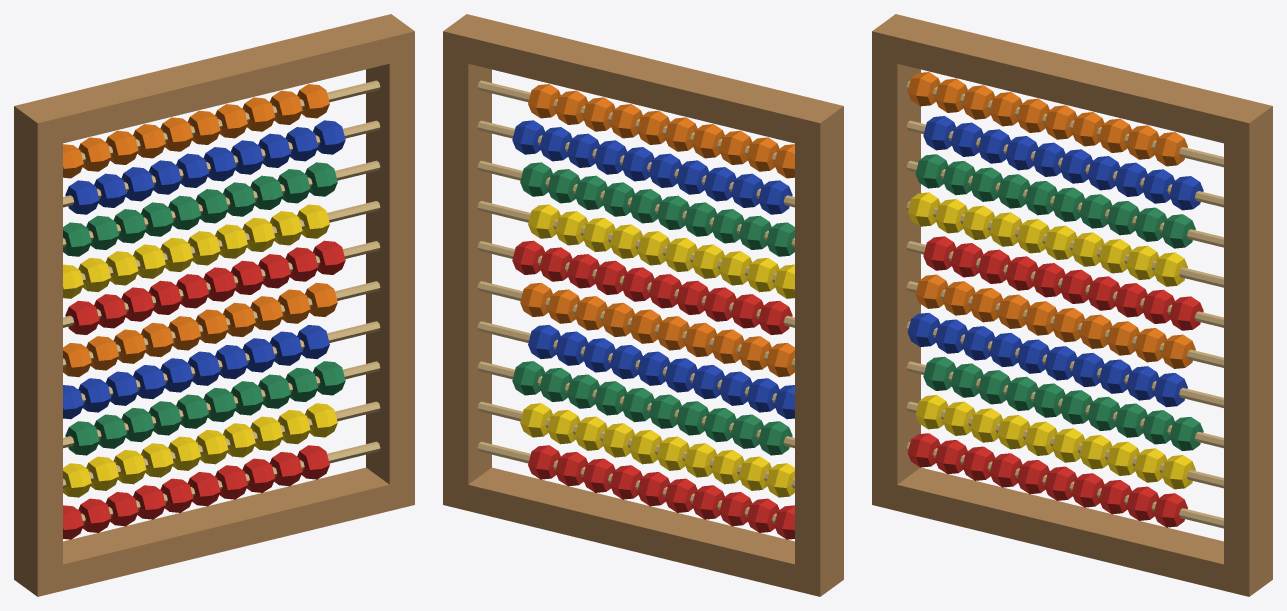
File: NEW_RECOVERY_050_LOD1.glb
The picture shows the model from 3 angles, left to right: view 1: azimuth 30°, elevation 25°; view 2: azimuth 150°, elevation 25°; view 3: azimuth 330°, elevation 25°; orthographic projection.
Visible parts, largest first — view 1: Abacus frozen single object; view 2: Abacus frozen single object; view 3: Abacus frozen single object.
Part boxes in pixels (x1,y1,x2,y2): Abacus frozen single object: [14, 14, 414, 596]; Abacus frozen single object: [443, 14, 843, 596]; Abacus frozen single object: [872, 14, 1272, 596].
Size of the model in its own units: 1.2 by 1.44 by 0.13.
